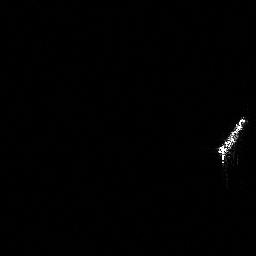ship: (214, 112, 248, 166)
